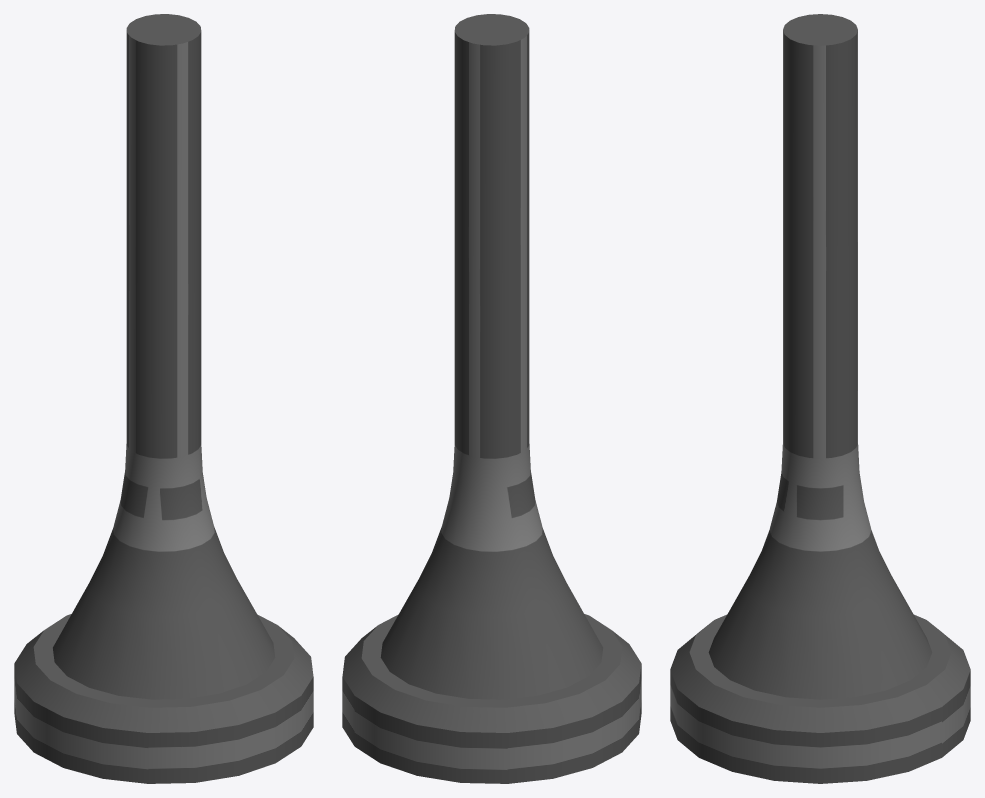
File: Crusher.fbx
The picture shows the model from 3 angles, left to right: view 1: azimuth 30°, elevation 25°; view 2: azimuth 150°, elevation 25°; view 3: azimuth 270°, elevation 25°; orthographic projection.
Parts seen in each view (by area): view 1: pCone2; view 2: pCone2; view 3: pCone2.
Boxes of the visible parts, x1,y1,x2,y2 form: pCone2: (14,14,313,783); pCone2: (342,14,641,783); pCone2: (670,14,970,783).
Size of the model in its own units: 4 by 10.14 by 4.
Materials: 1 (1 with a texture image).
